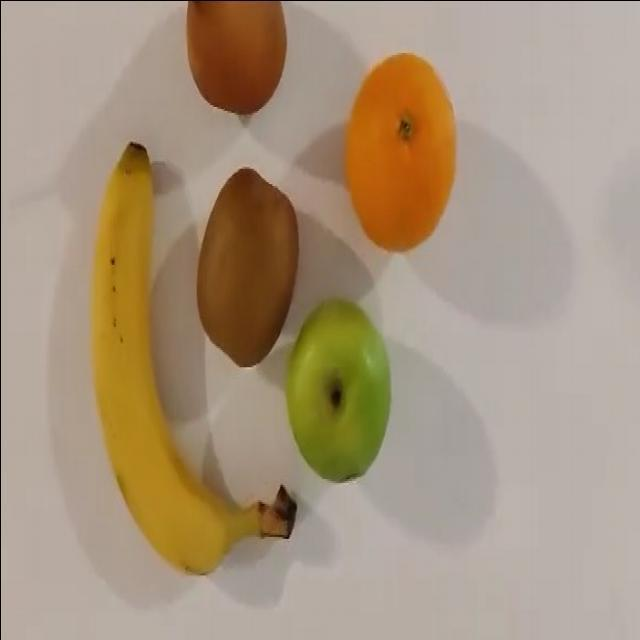Apple: (284, 297, 391, 482), (185, 0, 287, 115)
Banana: (89, 140, 297, 575)
Orange: (343, 51, 457, 252)
